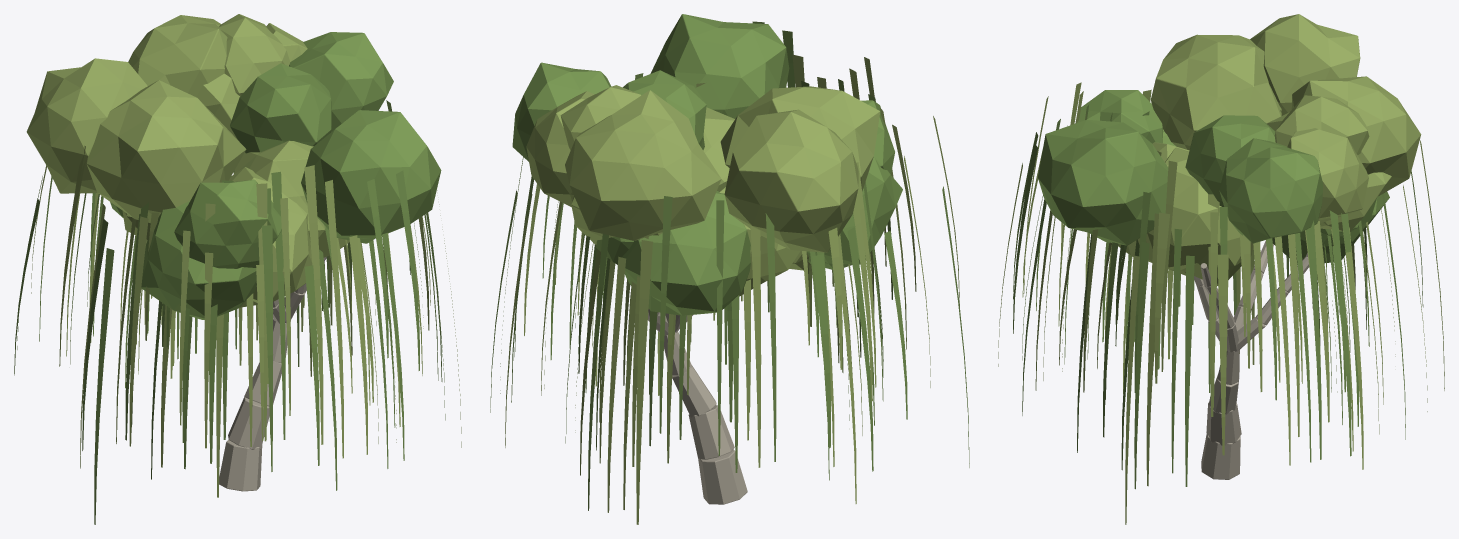
File: Willow.fbx
3 renders of one model, left to right at view 1: azimuth 30°, elevation 25°; view 2: azimuth 150°, elevation 25°; view 3: azimuth 270°, elevation 25°, orthographic. The views are drawn at different scales.
Visible parts, largest first — view 1: Willow; view 2: Willow; view 3: Willow.
Boxes of the visible parts, x1=… form: Willow: x1=14, y1=14, x2=461, y2=524; Willow: x1=490, y1=14, x2=969, y2=524; Willow: x1=998, y1=14, x2=1444, y2=524.
Bounding box in the file's own units: 7.06 × 7.36 × 7.27.
